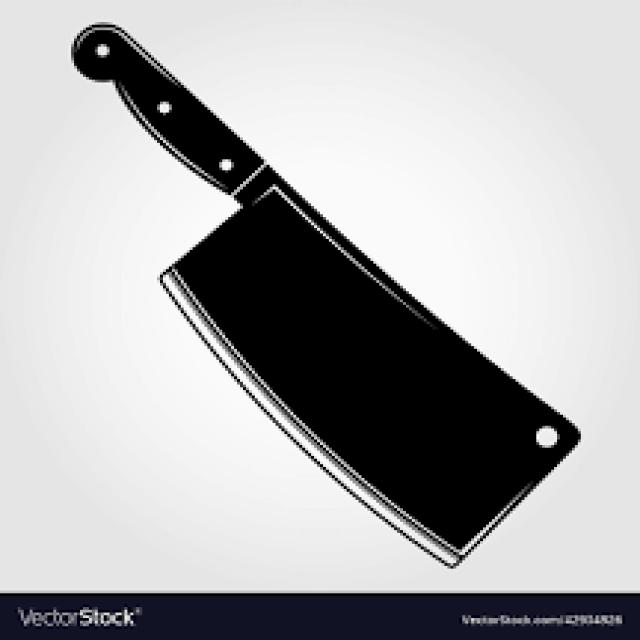Knife: (68, 19, 581, 566)
